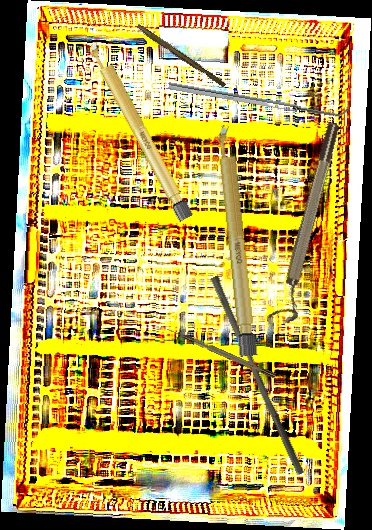Fixation Ring: (268, 120, 352, 327)
Hook Surgical: (165, 325, 277, 380)
Pusher: (202, 275, 313, 476)
Scalpel Handle: (86, 39, 194, 223), (215, 124, 259, 357), (134, 23, 228, 89)
Spatula Surgical: (168, 75, 350, 121)
